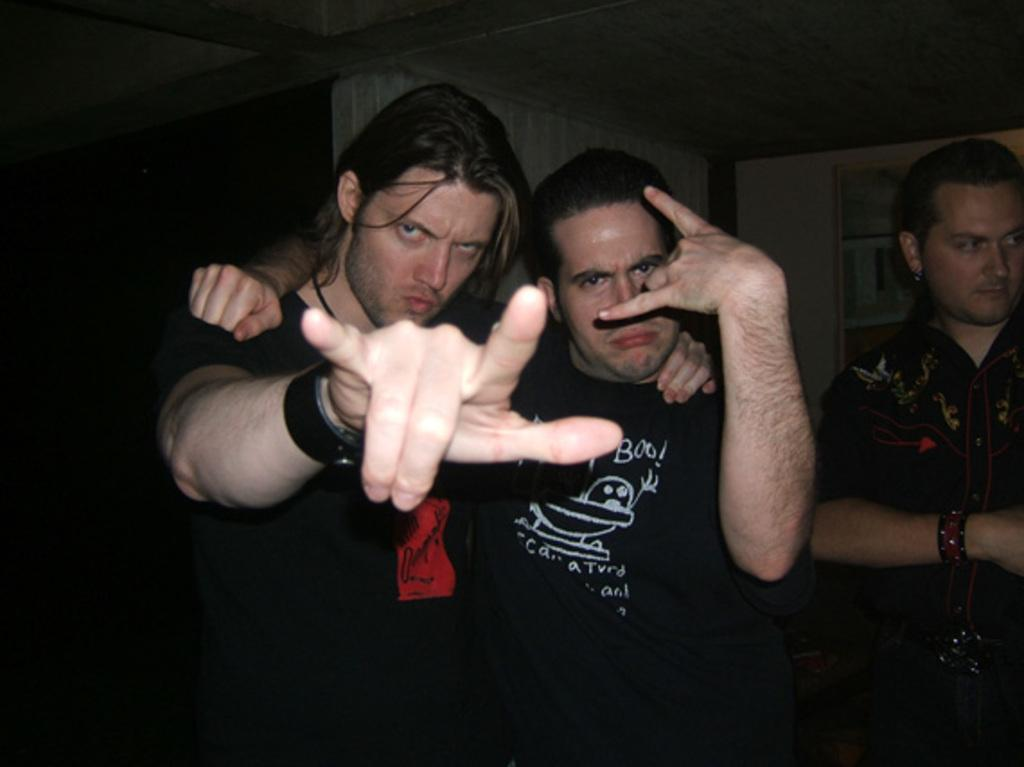Sem Máscara: (352, 178, 497, 327), (557, 205, 679, 375), (920, 185, 1020, 320)
